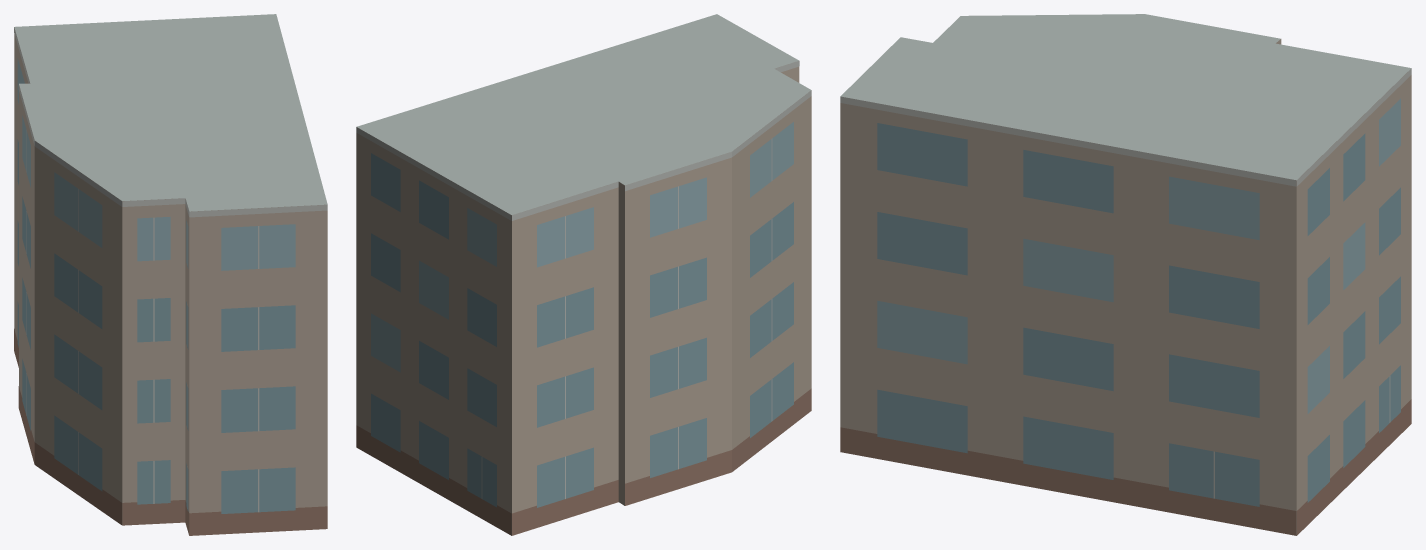
File: survey-upis-32835576.glb
The picture shows the model from 3 angles, left to right: view 1: azimuth 30°, elevation 25°; view 2: azimuth 150°, elevation 25°; view 3: azimuth 270°, elevation 25°; orthographic projection. The views are drawn at different scales.
Parts seen in each view (by area): view 1: survey-upis-32835576.tmp; view 2: survey-upis-32835576.tmp; view 3: survey-upis-32835576.tmp.
Part boxes in pixels (x1,y1,x2,y2): survey-upis-32835576.tmp: [14, 14, 327, 535]; survey-upis-32835576.tmp: [356, 14, 811, 535]; survey-upis-32835576.tmp: [840, 14, 1411, 535].
Bounding box in the file's own units: 13.45 × 13.4 × 19.52.
